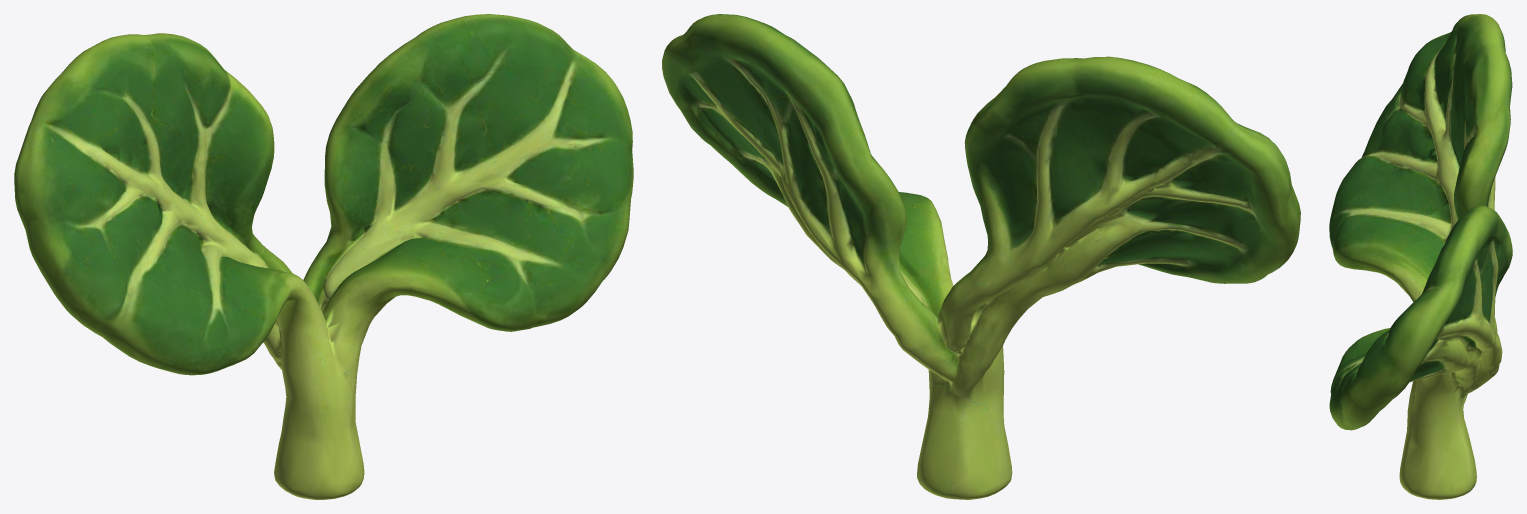
The model's file is cabbage-sprout.glb.
3 views of the same model, side by side, from view 1: azimuth 30°, elevation 25°; view 2: azimuth 150°, elevation 25°; view 3: azimuth 270°, elevation 25° (orthographic). The views are drawn at different scales.
Size of the model in its own units: 1.9 by 1.43 by 0.6019.
Materials: 1 (1 with a texture image).
